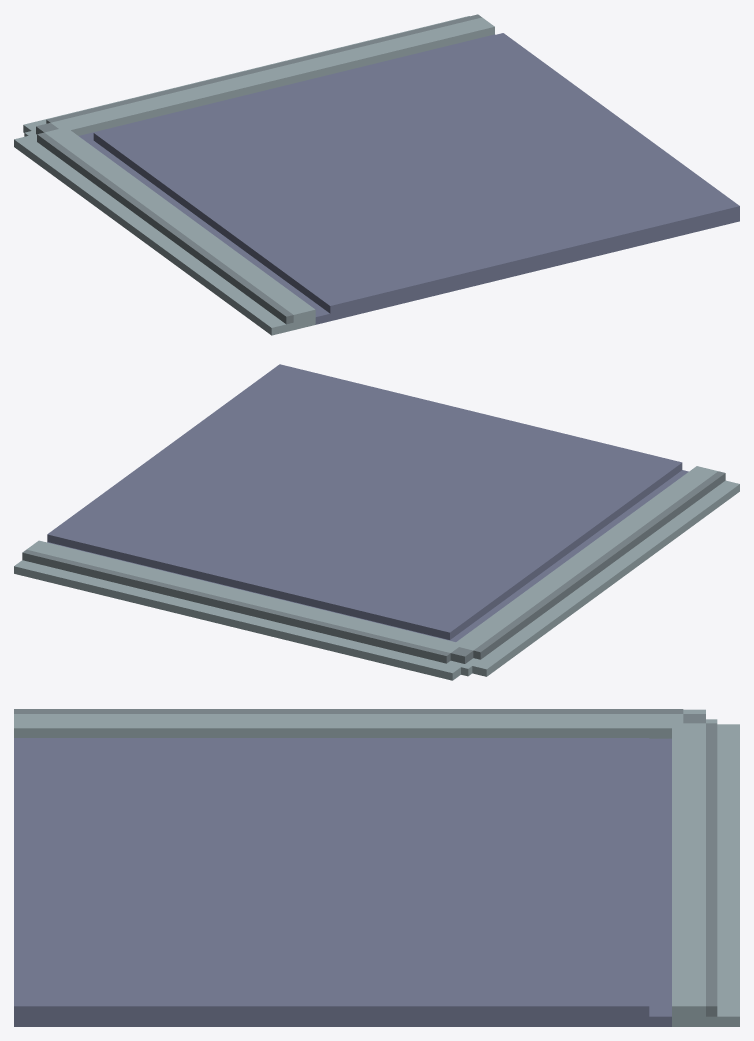
The model's file is Tile_001.obj.
3 renders of one model, top to bottom at view 1: azimuth 30°, elevation 25°; view 2: azimuth 150°, elevation 25°; view 3: azimuth 270°, elevation 25°, orthographic. The views are drawn at different scales.
Size of the model in its own units: 6.4 by 0.2 by 6.4.
1 material, 1 textured.
